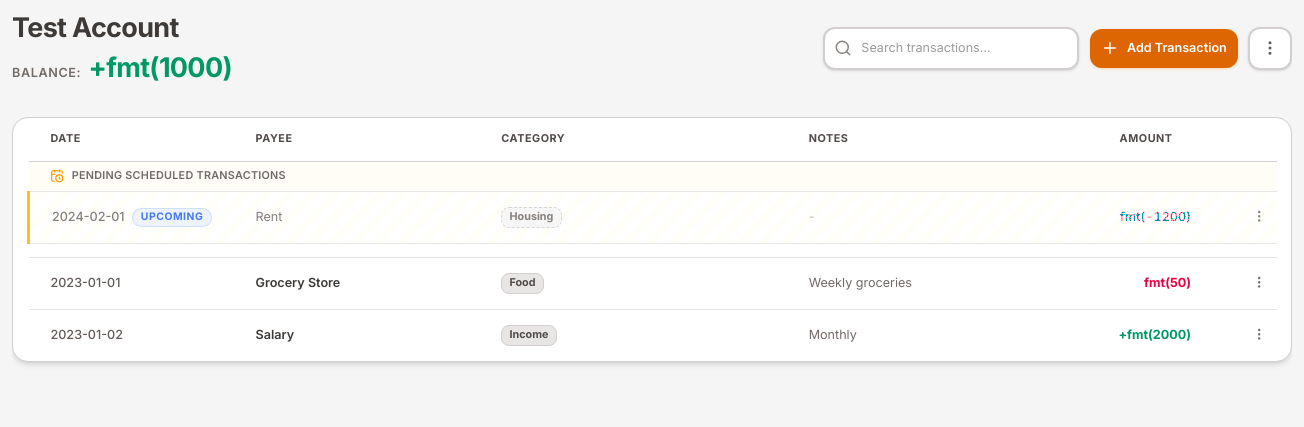
it: AccountDetails extended integration › shows empty search message when filter matches nothing
The image size is (1304, 427).
Expected: the text "Grocery Store" is shown, [234,257,480,309]
Type "nonexistent-payee" into the field with placeholder "Search transactions...". click: [951, 48]
box: [823,27,1079,70]
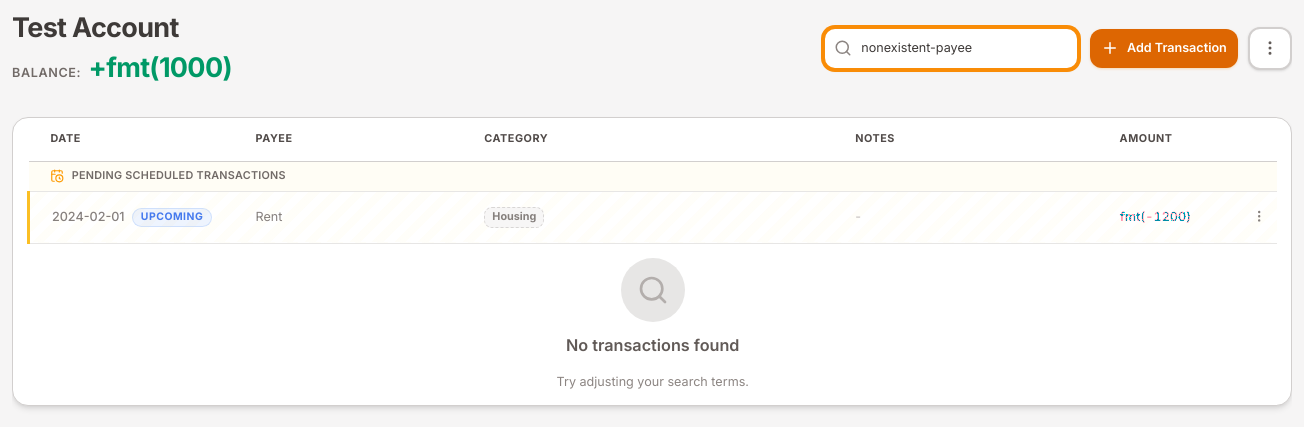
Now the text "No transactions found" is shown, box [566,333,739,358]
Now the text "Try adjusting your search terms." is shown, box [557,373,749,391]
